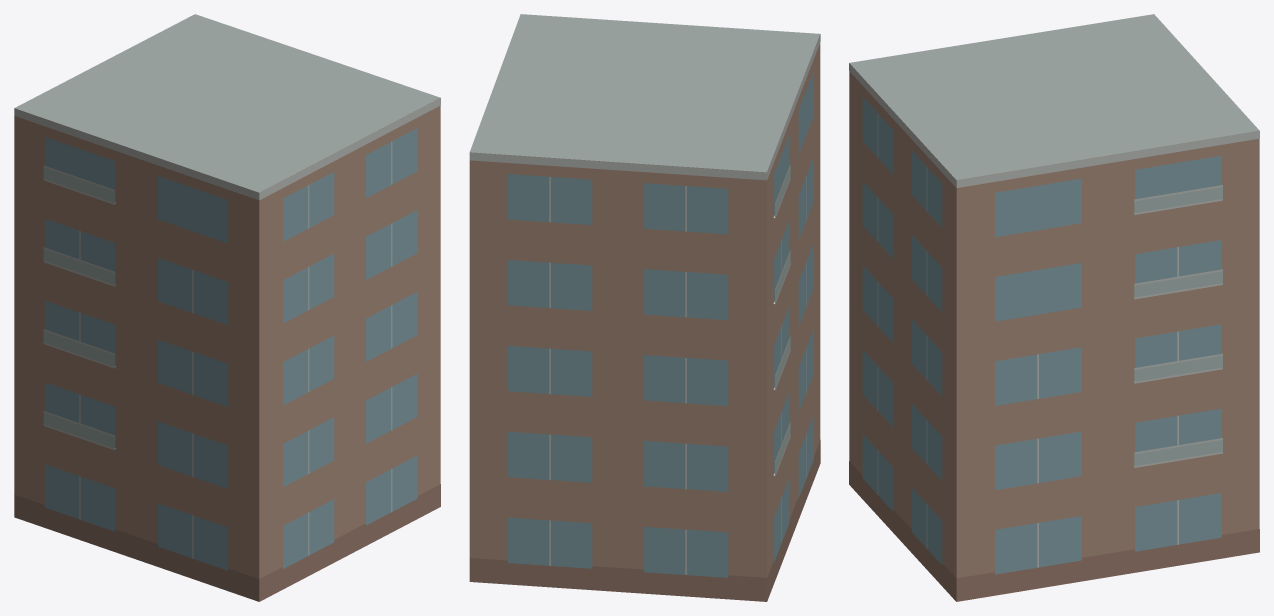
Rendered from survey-upis-32847326.glb.
The picture shows the model from 3 angles, left to right: view 1: azimuth 30°, elevation 25°; view 2: azimuth 150°, elevation 25°; view 3: azimuth 270°, elevation 25°; orthographic projection. The views are drawn at different scales.
Visible parts, largest first — view 1: survey-upis-32847326.tmp; view 2: survey-upis-32847326.tmp; view 3: survey-upis-32847326.tmp.
Boxes of the visible parts, x1=… form: survey-upis-32847326.tmp: x1=14, y1=14, x2=440, y2=601; survey-upis-32847326.tmp: x1=469, y1=14, x2=820, y2=601; survey-upis-32847326.tmp: x1=849, y1=14, x2=1259, y2=601.
Bounding box in the file's own units: 11.02 × 13.02 × 11.5.
